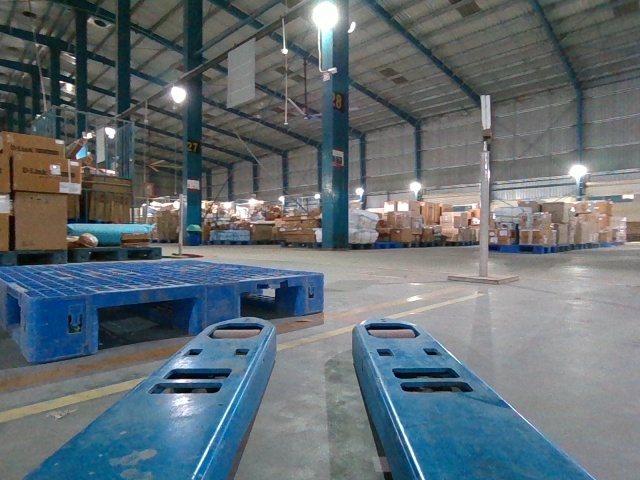block: (32, 296, 99, 361), (198, 284, 241, 329), (300, 273, 324, 314)
front: (33, 272, 324, 363)
hole pallet: (95, 298, 196, 350), (238, 289, 297, 317)
